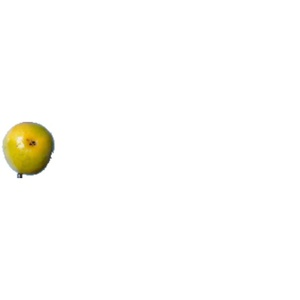maracujá: (3, 122, 55, 179)
